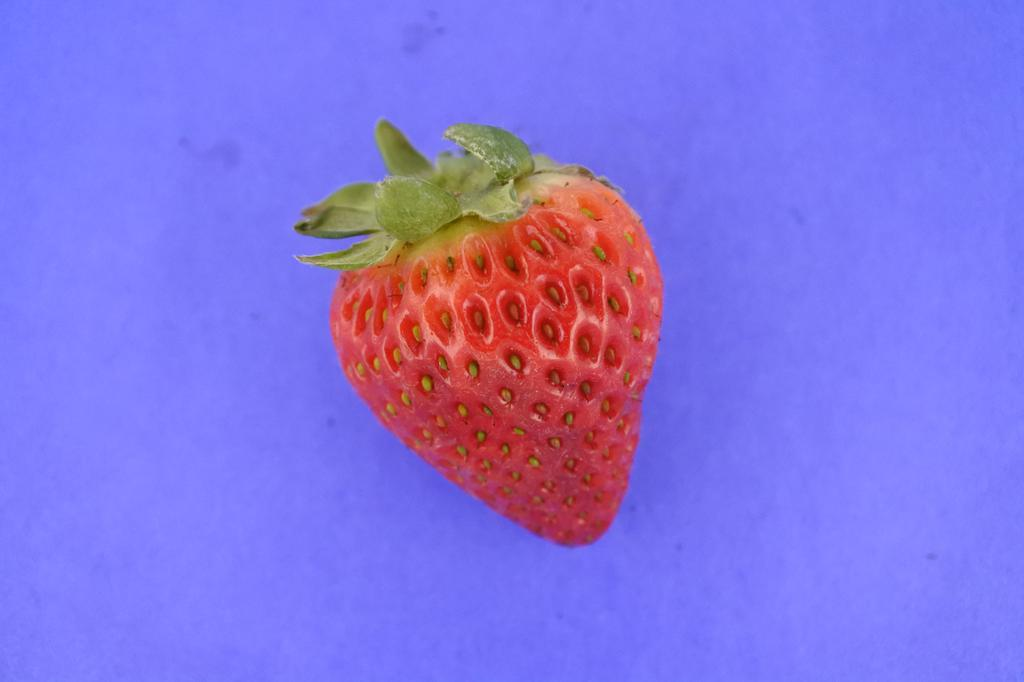red strawberry: (293, 118, 664, 548)
